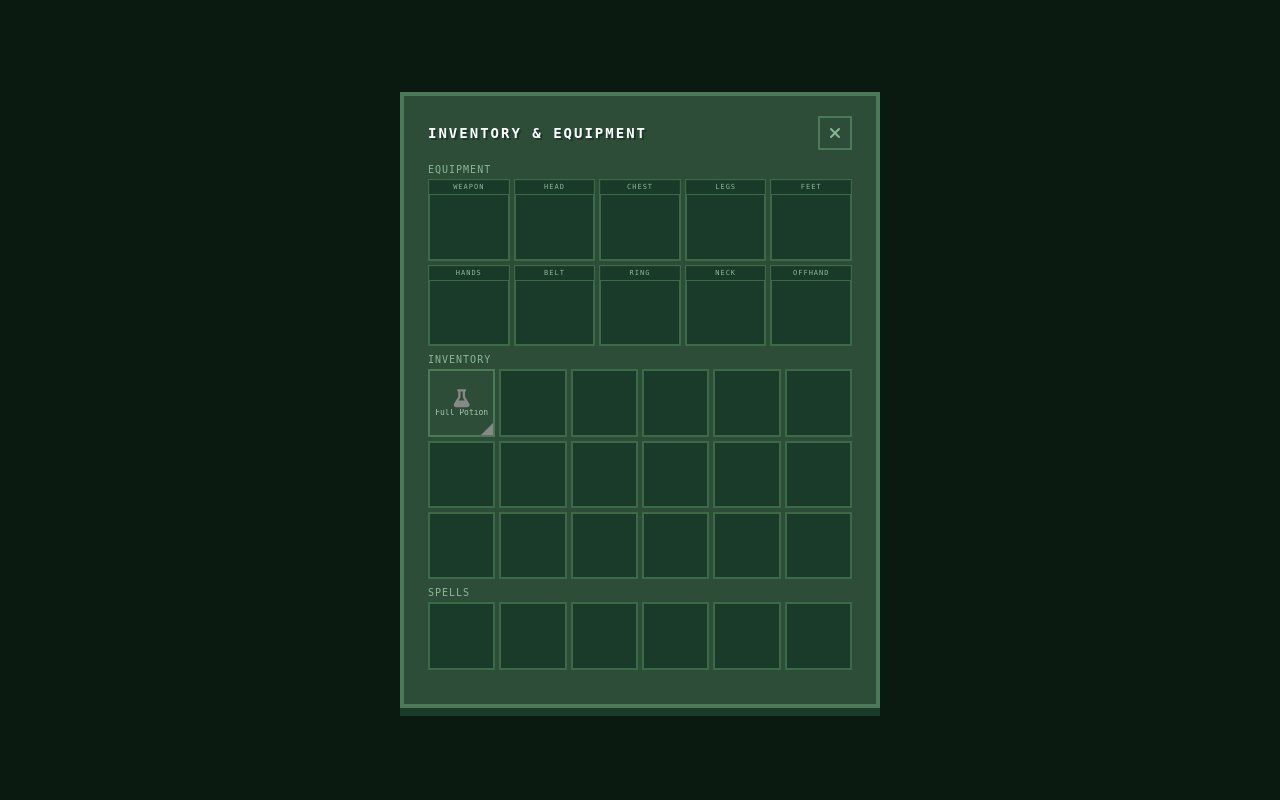
Scenario: InventoryDialog › consume confirmation dialog › shows both heal and mana stats when item has both
This screenshot has width=1280, height=800.
Click the element showing "Full Potion" at (462, 403), box top-left (428, 369), bottom-right (495, 437)
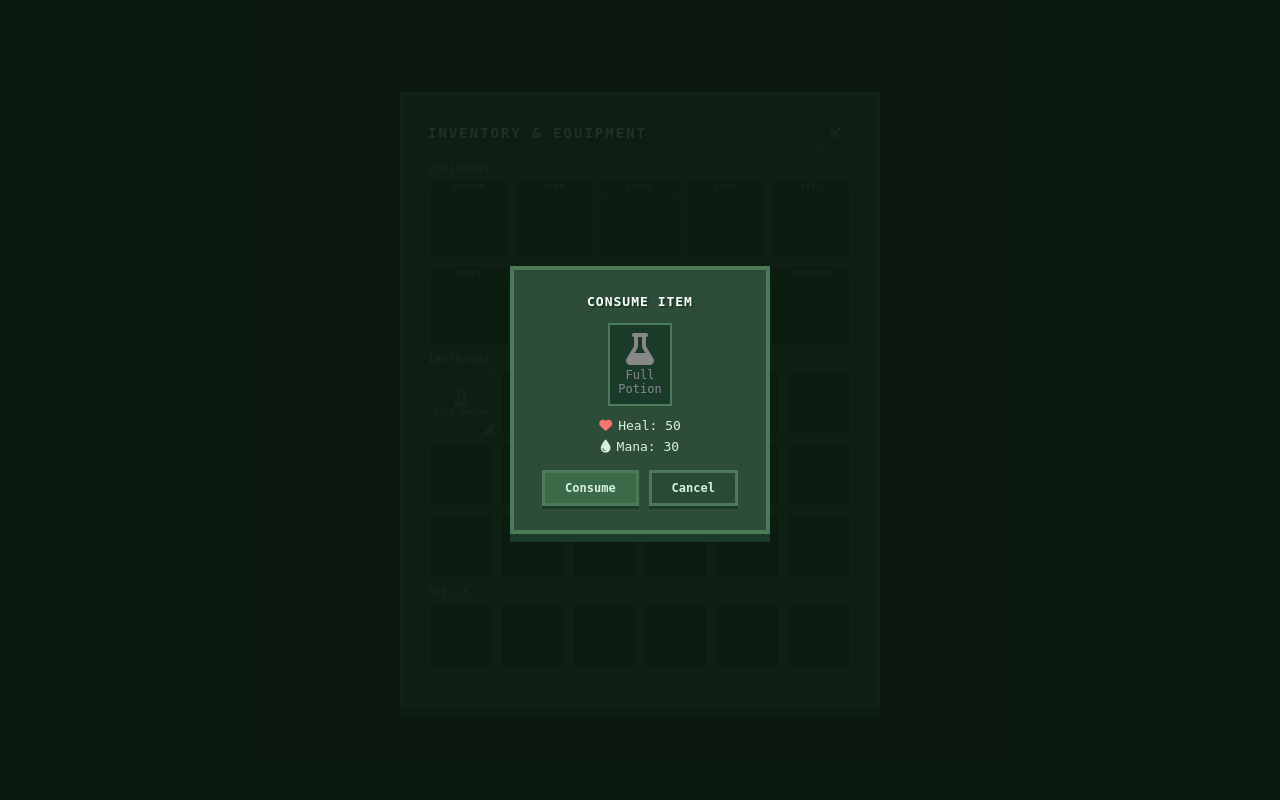
Check: the text "Heal: 50" is shown, box top-left (599, 418), bottom-right (681, 433)
Check: the text "Mana: 30" is shown, box top-left (601, 439), bottom-right (679, 454)
